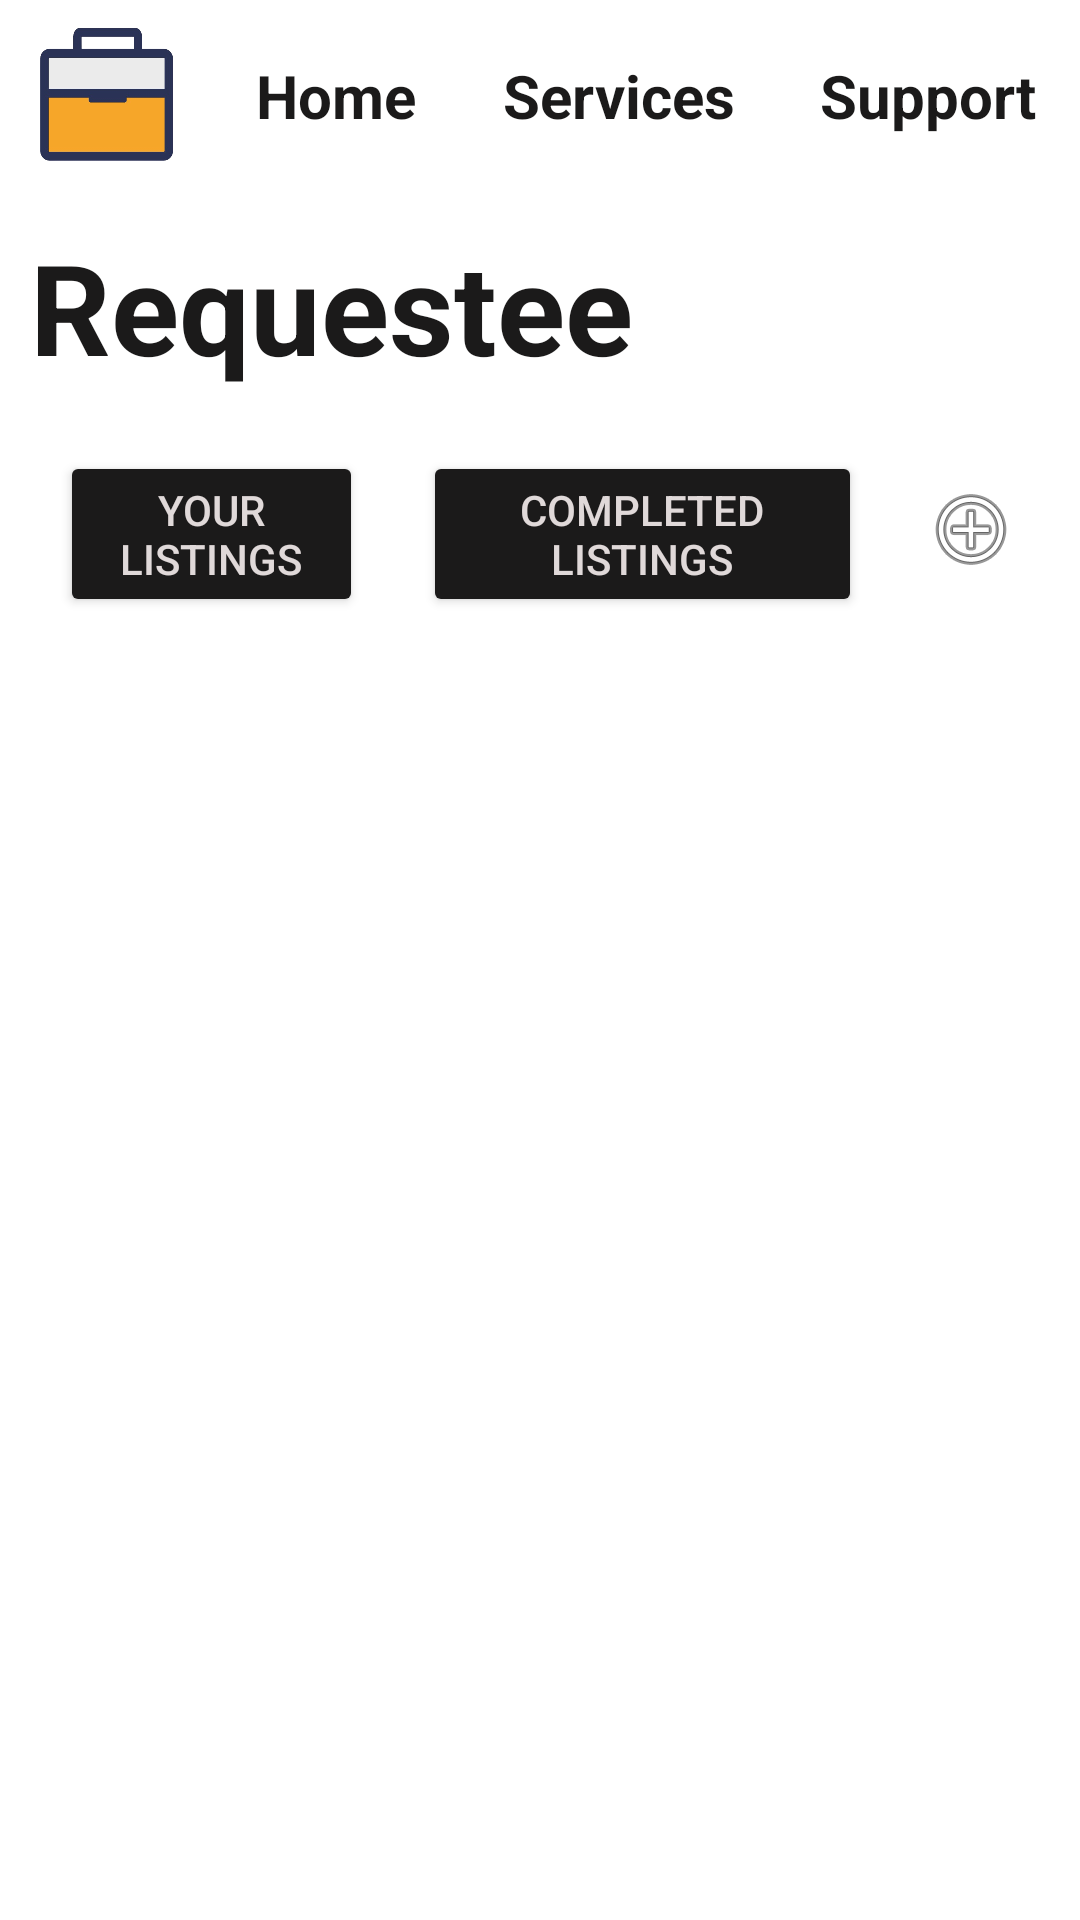

Named icons in this screenshot (1080 × 1920) and their bounding boxes, BBox(x1, y1, x2, y2):
add: BBox(935, 494, 1007, 565)
